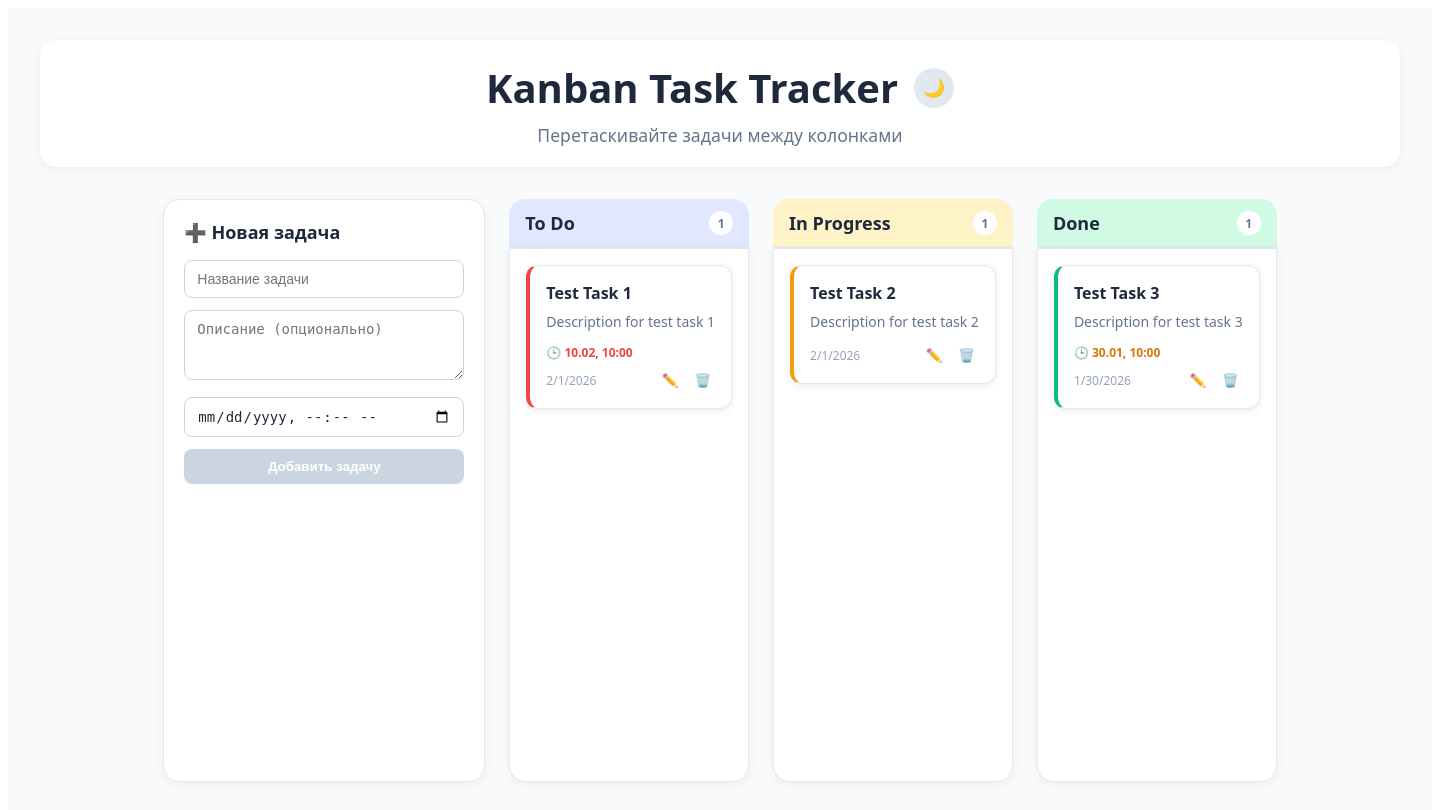
KanbanBoard › opens edit modal when edit button is clicked
Expected: the element with test id "task-card-1" is shown, [526,265,732,409]
What coordinates should you click on to do the following:
click the button with test id "task-edit-button-1"
I would click on:
 (670, 380)
Its box is [658,369,682,392].
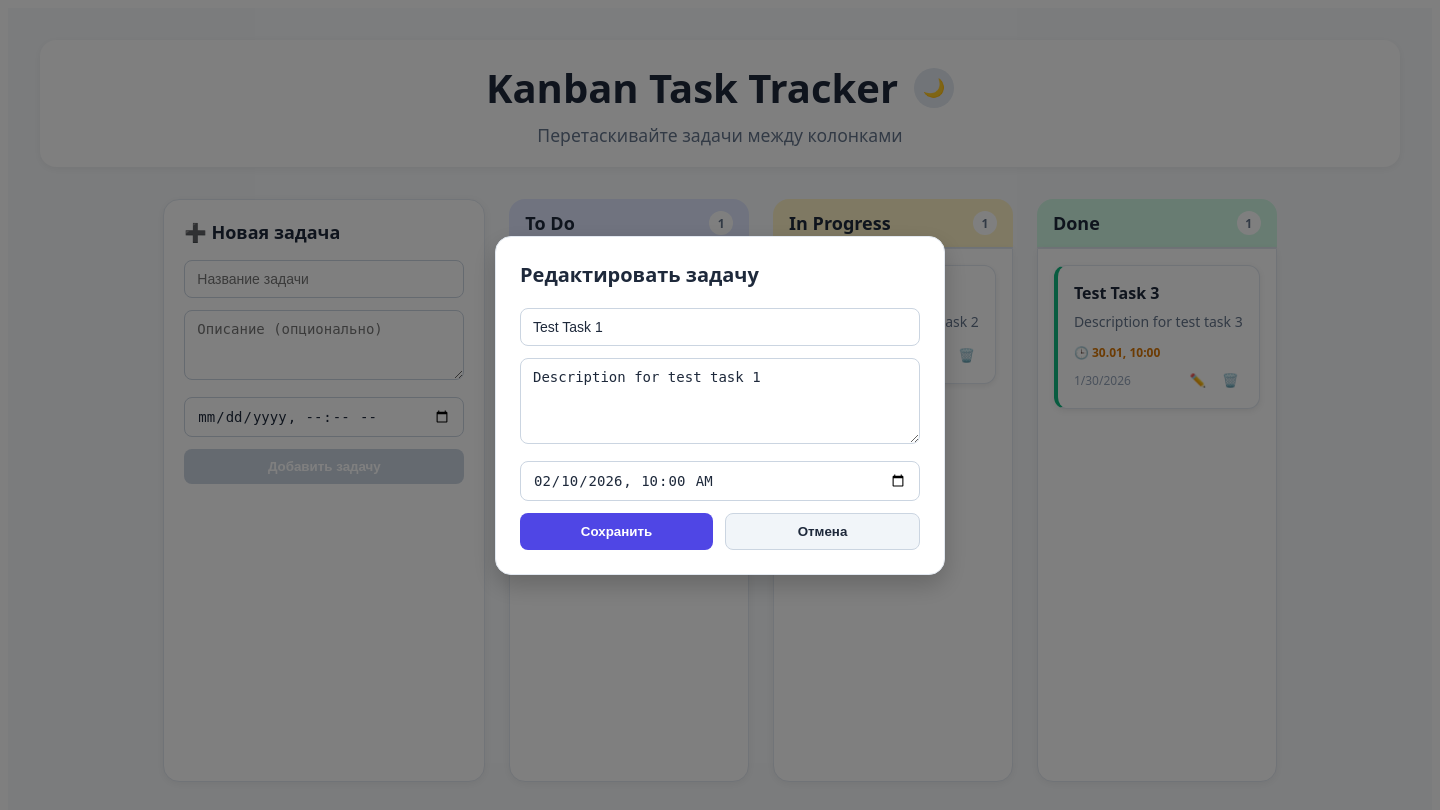
Result: the dialog with test id "edit-task-modal" is shown
Result: the element with test id "edit-task-modal-content" is shown at [495,236,945,574]
